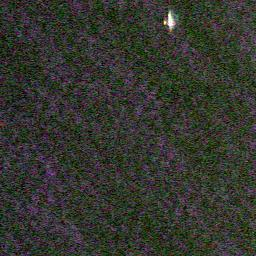Ship: (165, 13, 176, 31)
